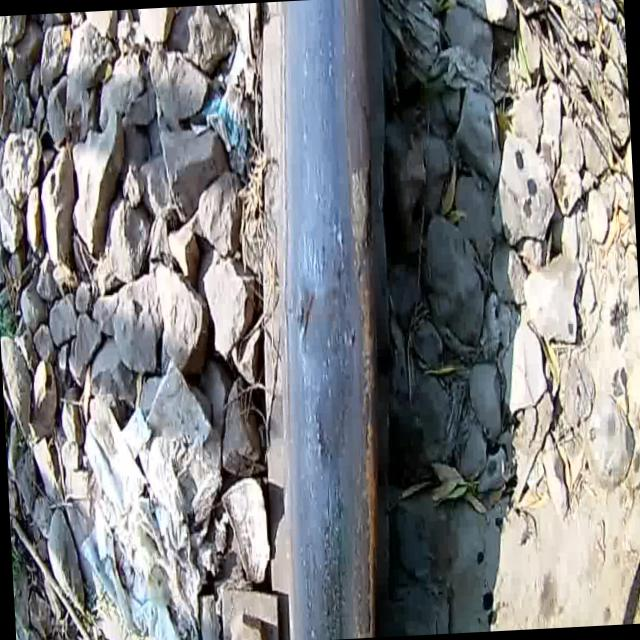Squats: (236, 0, 421, 640)
